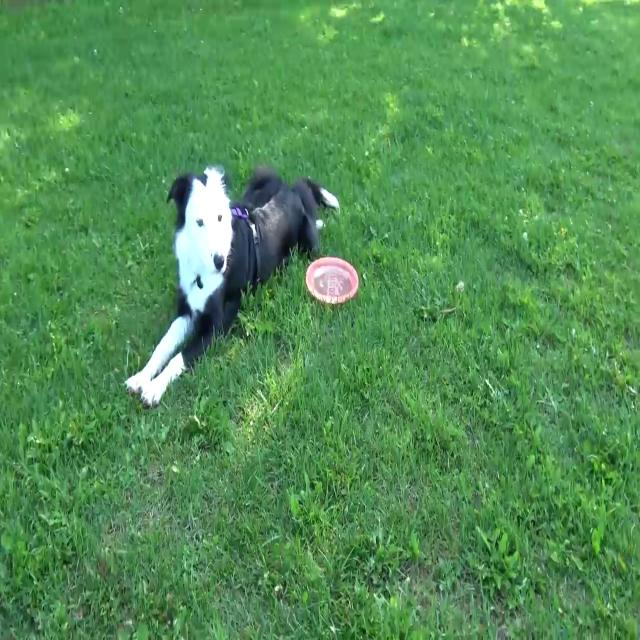Dog: (125, 164, 341, 412)
